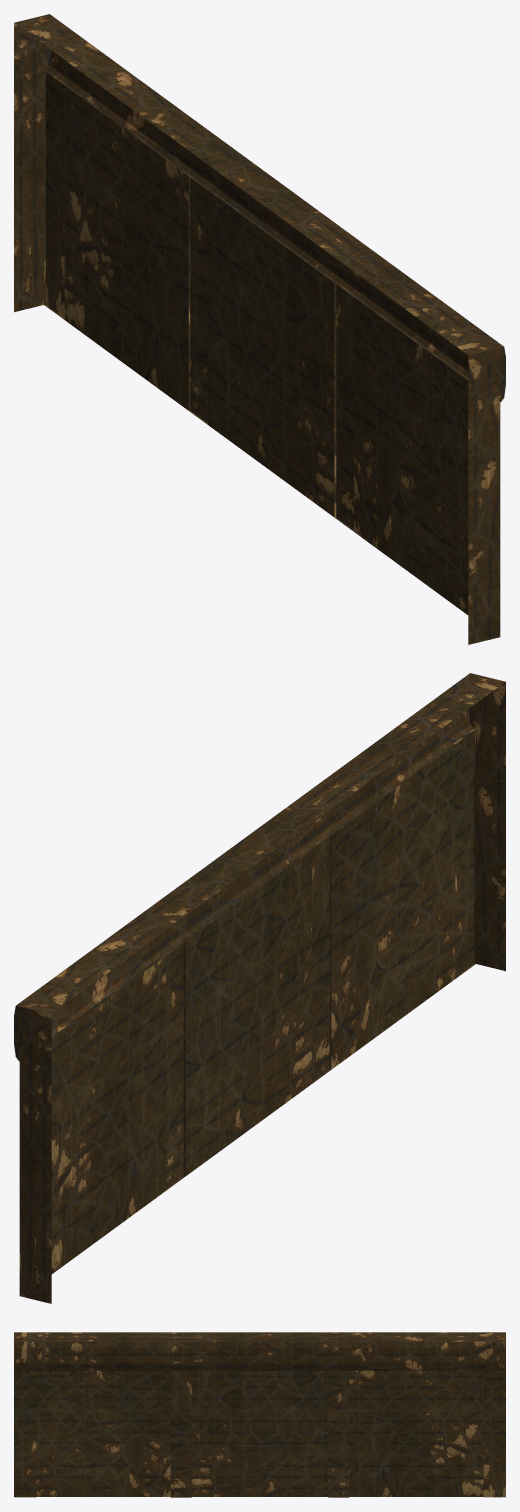
Rendered from wallPrefab1x3-noBottomFrame.fbx.
3 renders of one model, top to bottom at view 1: azimuth 30°, elevation 25°; view 2: azimuth 150°, elevation 25°; view 3: azimuth 270°, elevation 25°, orthographic. The views are drawn at different scales.
Visible parts, largest first — view 1: wallPrefab1x3; view 2: wallPrefab1x3; view 3: wallPrefab1x3.
Part boxes in pixels (<box>): wallPrefab1x3: <box>14,14,505,644</box>; wallPrefab1x3: <box>14,673,505,1303</box>; wallPrefab1x3: <box>14,1332,505,1497</box>.
Bounding box in the file's own units: 25.03 × 185 × 525.
